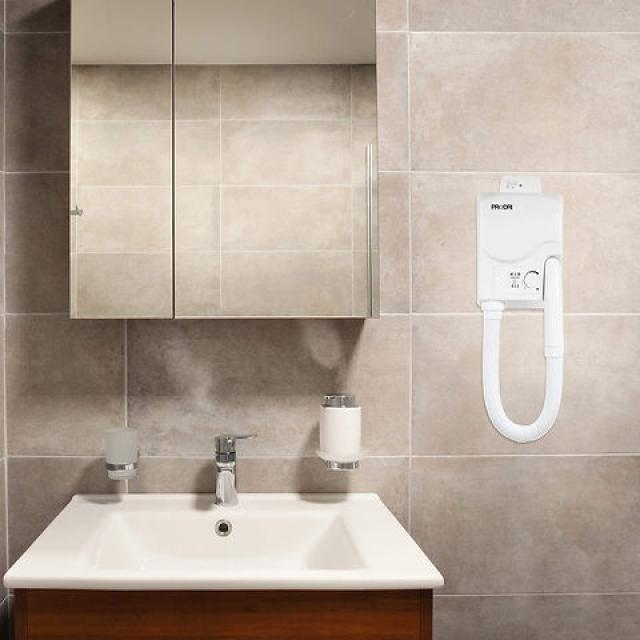dryer: (452, 162, 583, 452)
